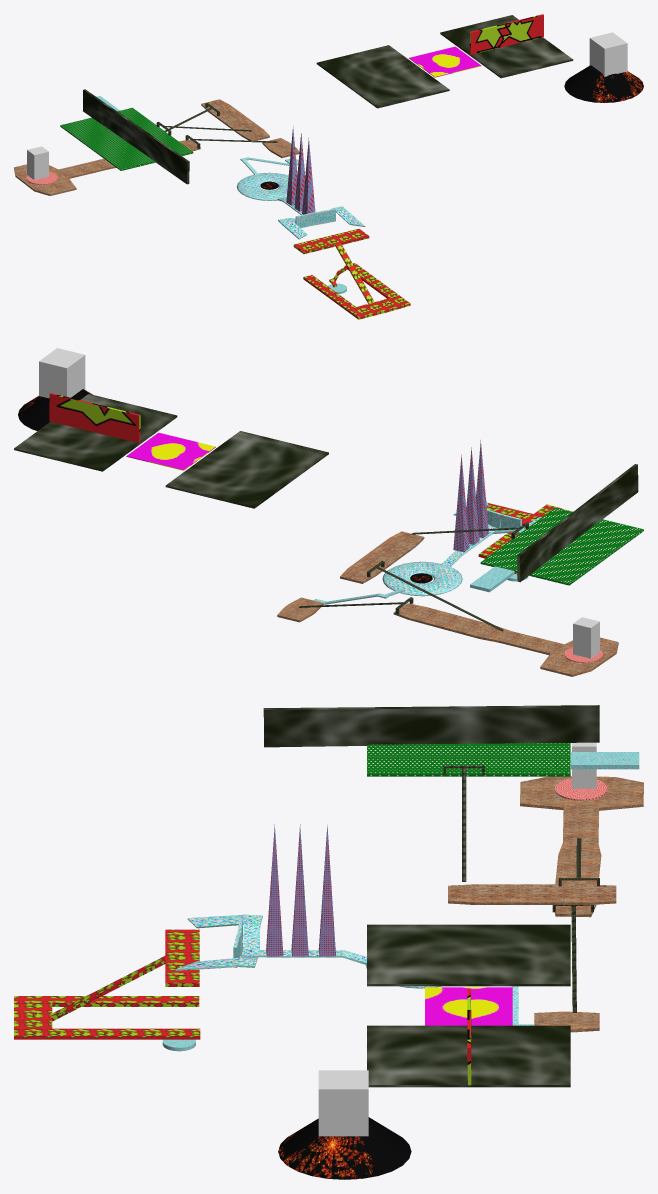
The model's file is Level3.FBX.
3 views of the same model, one above another, from view 1: azimuth 30°, elevation 25°; view 2: azimuth 150°, elevation 25°; view 3: azimuth 270°, elevation 25° (orthographic). The views are drawn at different scales.
Visible parts, largest first — view 1: Box001, Box008, Box006, Box002, Box003, Torus001, Cone001, Box007, Object001, TriggerBox_JumpToLevel4, Box005, Box010 (+4 smaller); view 2: Box001, Box002, Box006, Object001, Box003, Torus001, Box007, TriggerBox_JumpToLevel4, Box005, Box010, TriggerBox_JumpToLevel1, Cone001 (+7 smaller); view 3: Box003, Box001, Box006, Box008, Box002, Object001, Cone001, Box010, TriggerBox_JumpToLevel4, Box005, Torus001, Sphere002 (+7 smaller).
Part boxes in pixels (<box>): Box001: <box>316,45,449,108</box>; Box008: <box>293,228,410,319</box>; Box006: <box>440,15,573,78</box>; Box002: <box>60,107,193,170</box>; Box003: <box>83,89,189,184</box>; Torus001: <box>237,172,365,239</box>; Cone001: <box>564,65,643,102</box>; Box007: <box>469,14,543,54</box>; Object001: <box>14,139,200,195</box>; TriggerBox_JumpToLevel4: <box>589,32,627,76</box>; Box005: <box>408,46,481,77</box>; Box010: <box>201,99,269,141</box>; Box001: <box>165,431,328,508</box>; Box002: <box>480,507,643,585</box>; Box006: <box>14,394,177,471</box>; Object001: <box>393,603,618,676</box>; Box003: <box>517,464,638,582</box>; Torus001: <box>382,500,541,596</box>; Box007: <box>49,393,140,442</box>; TriggerBox_JumpToLevel4: <box>39,348,85,398</box>; Box005: <box>126,432,215,470</box>; Box010: <box>340,531,424,583</box>; TriggerBox_JumpToLevel1: <box>573,617,599,658</box>; Cone001: <box>18,389,92,430</box>; Box003: <box>263,705,599,747</box>; Box001: <box>367,924,570,986</box>; Box006: <box>367,1025,570,1087</box>; Box008: <box>14,929,200,1040</box>; Box002: <box>367,742,570,776</box>; Object001: <box>520,776,643,917</box>; Cone001: <box>278,1117,411,1179</box>; Box010: <box>448,884,616,904</box>; TriggerBox_JumpToLevel4: <box>318,1070,368,1136</box>; Box005: <box>425,987,512,1025</box>; Torus001: <box>175,914,441,988</box>; Sphere002: <box>291,824,308,956</box>.
Bounding box in the file's own units: 1609 × 398 × 964.
Materials: 9 (9 with a texture image).
